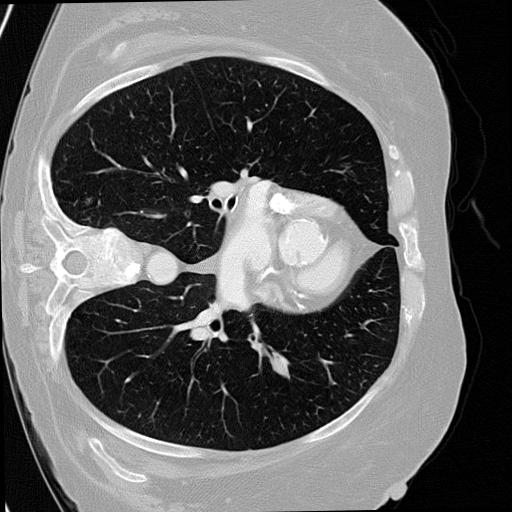nodule: (271, 356, 292, 377)
